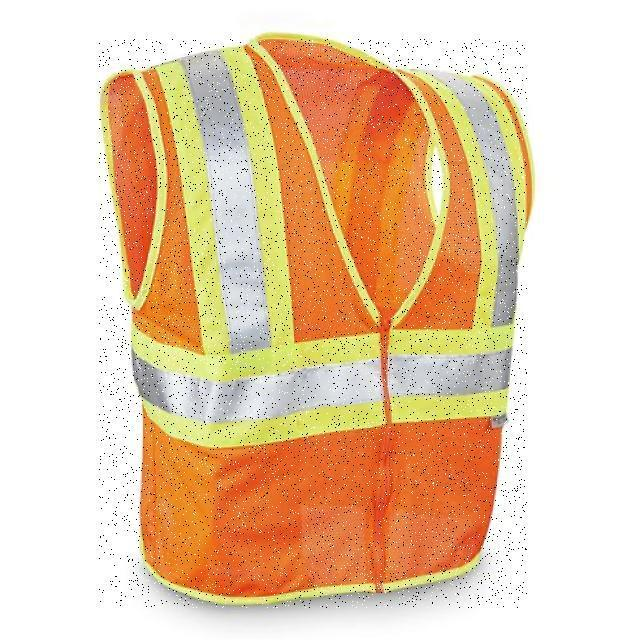vest: (99, 39, 527, 608)
